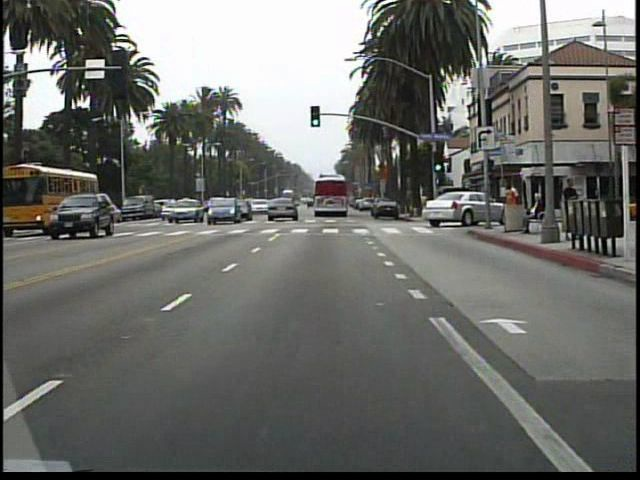person: (558, 175, 581, 237), (521, 186, 543, 237), (501, 179, 519, 232)
